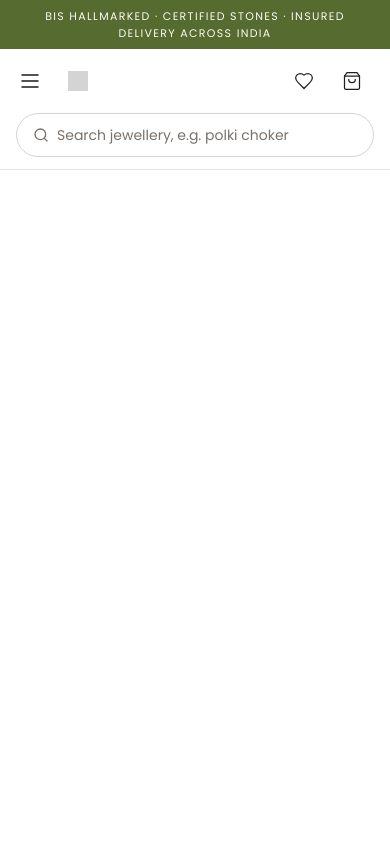
Test: Header navigation menus (Category / Collections) › exposes Category and Collections as accordions in the mobile drawer
Later steps or results of the test are not shown.
Click the button named "open menu": point(30, 81) [8,59,52,103]
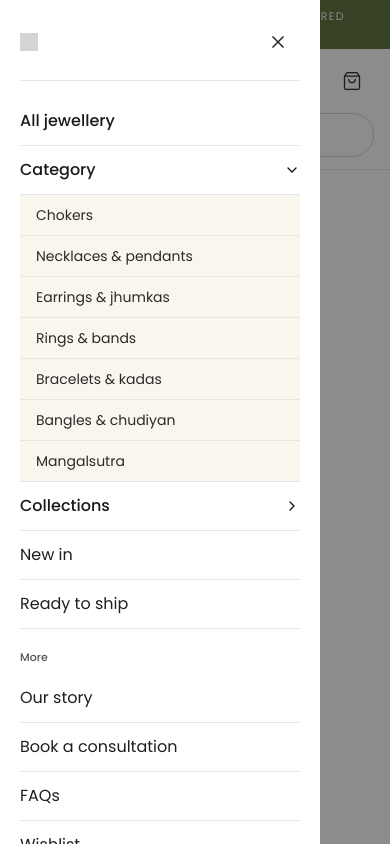
Expected: the dialog named "Menu" is shown
